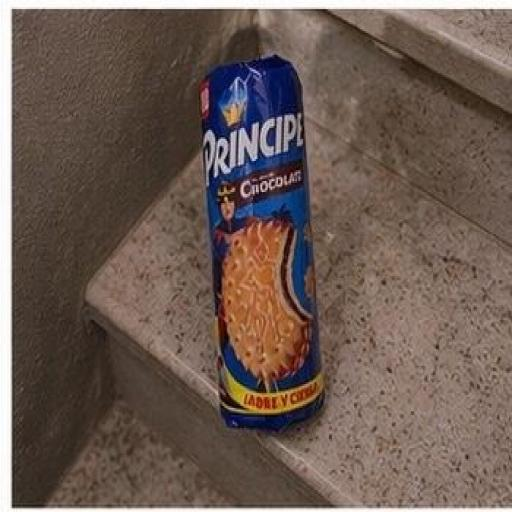prince: (158, 35, 382, 468)
